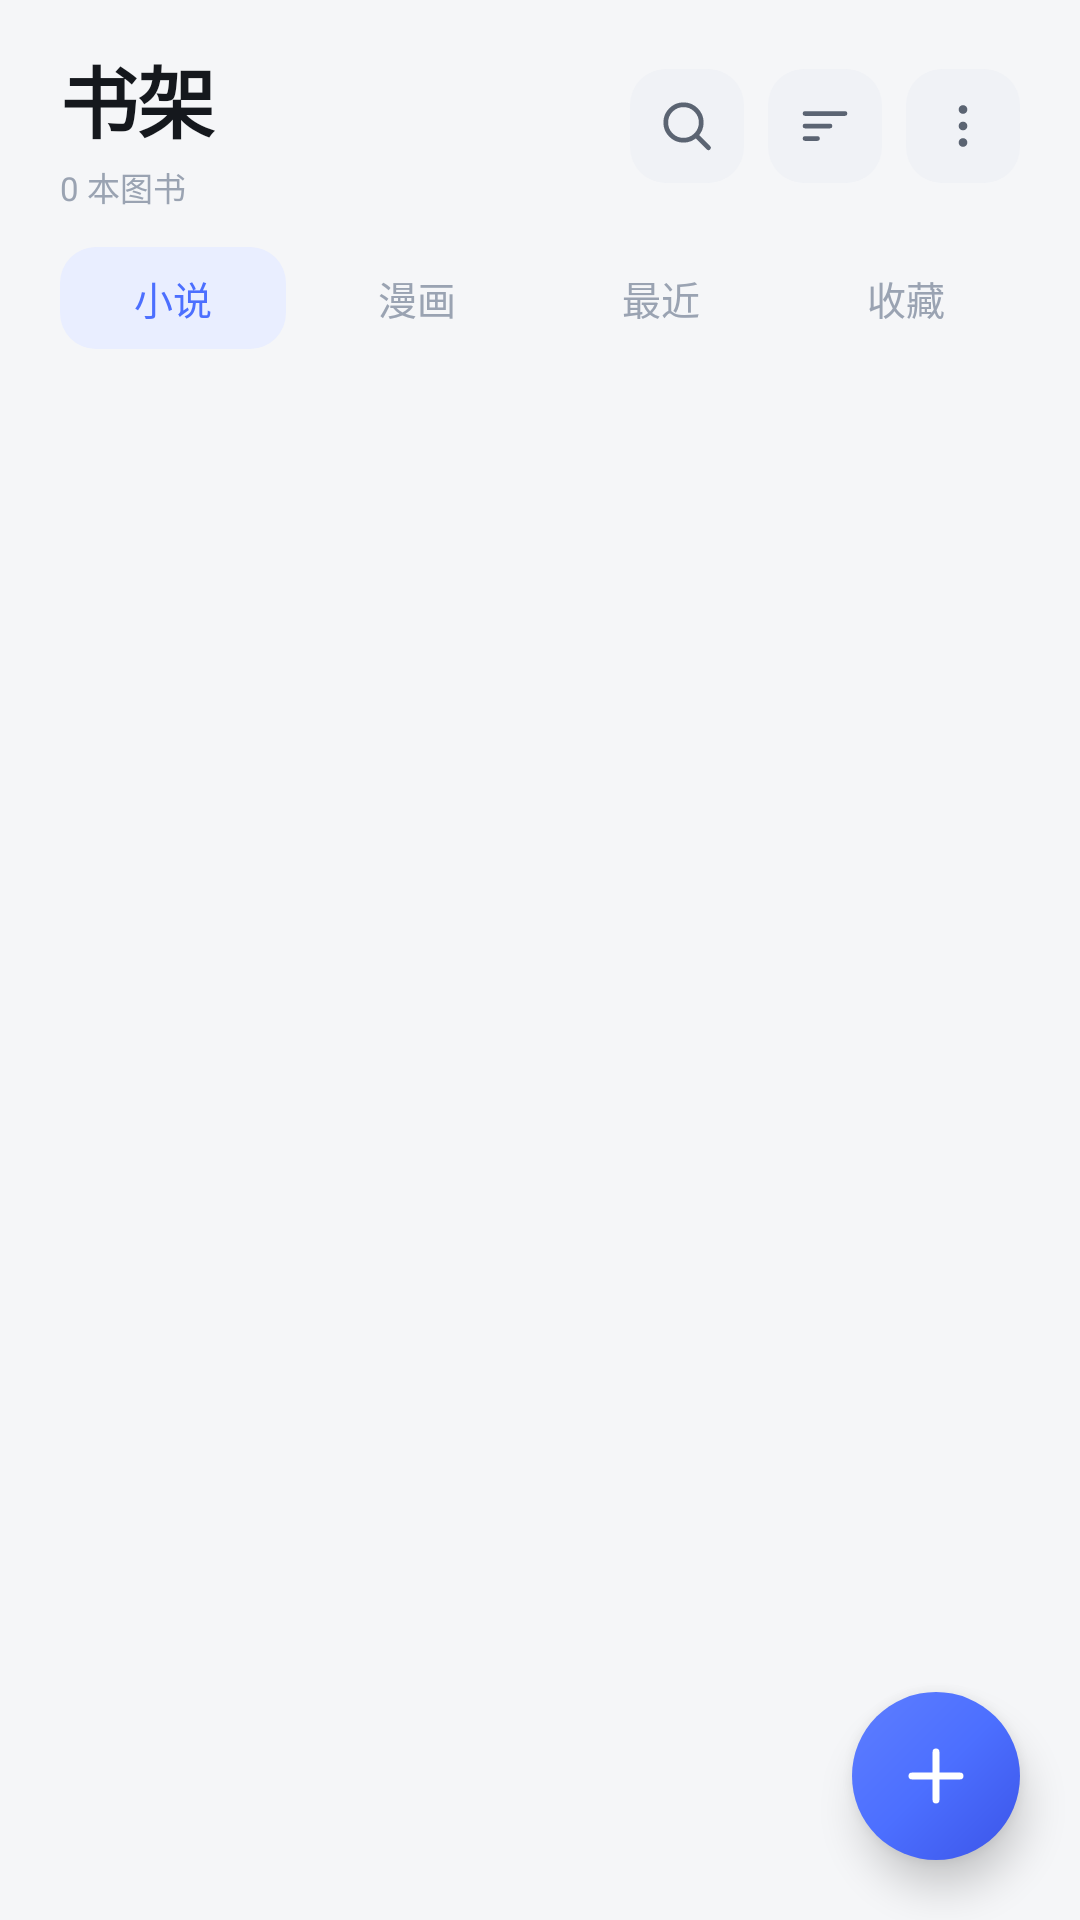

Icon click points for this 1080 x 1920 phone screenshot, format point (x, y):
more: point (963, 126)
search: point (687, 126)
sort: point (825, 126)
导入图书: point (936, 1776)
